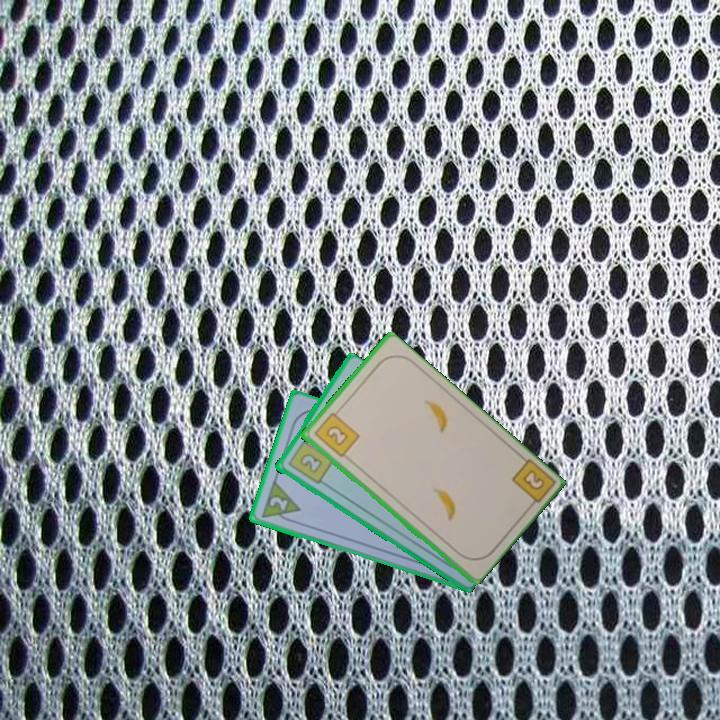2b: (507, 455, 556, 513), (284, 433, 336, 487), (310, 406, 362, 460)
2p: (257, 477, 303, 527)
